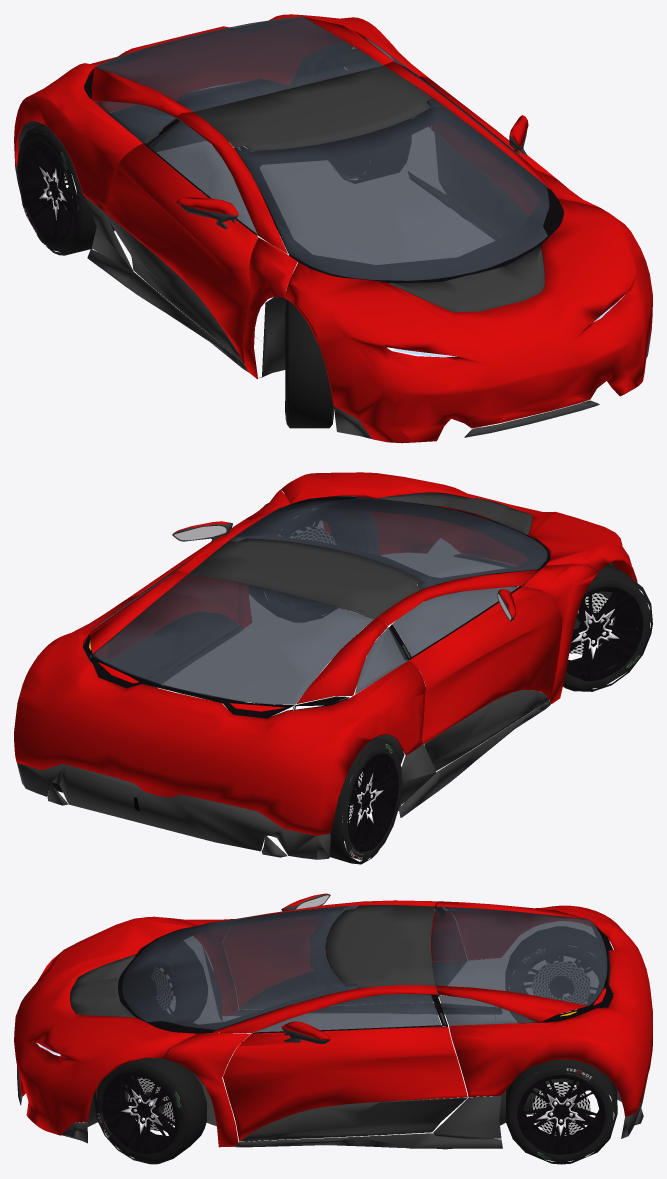
File: race_car_far.glb
The picture shows the model from 3 angles, top to bottom: view 1: azimuth 30°, elevation 25°; view 2: azimuth 150°, elevation 25°; view 3: azimuth 270°, elevation 25°; orthographic projection. The views are drawn at different scales.
Visible parts, largest first — view 1: BodyRearPanelsColor1, BodyWindshield, BodyRoofPanel, BodyWindshieldGasket, WheelFrontR, WheelRearRRim, WheelRearR, Underside, WheelRearL; view 2: BodyRearPanelsColor1, BodyWindshield, BodyRoofPanel, BodyWindshieldGasket, WheelFrontRRim, WheelRearRRim, WheelRearR, WheelFrontL, WheelFrontR, Underside, WheelFrontLRim, BodyDoorRMirror; view 3: BodyRearPanelsColor1, BodyWindshield, BodyRoofPanel, BodyWindshieldGasket, WheelFrontL, WheelRearLRim, WheelFrontLRim, WheelRearL, WheelRearR, WheelFrontR, Underside, WheelRearRBrakeDisc (+4 smaller).
Part boxes in pixels (bbox=[...]): BodyRearPanelsColor1: bbox=[14, 14, 652, 443]; BodyWindshield: bbox=[94, 16, 549, 280]; BodyRoofPanel: bbox=[15, 65, 651, 438]; BodyWindshieldGasket: bbox=[84, 18, 563, 282]; WheelFrontR: bbox=[285, 300, 333, 428]; WheelRearRRim: bbox=[21, 141, 73, 242]; WheelRearR: bbox=[17, 124, 114, 255]; Underside: bbox=[18, 42, 544, 378]; WheelRearL: bbox=[312, 49, 410, 183]; BodyRearPanelsColor1: bbox=[14, 472, 637, 835]; BodyWindshield: bbox=[92, 497, 547, 704]; BodyRoofPanel: bbox=[17, 492, 550, 859]; BodyWindshieldGasket: bbox=[83, 496, 550, 718]; WheelFrontRRim: bbox=[559, 586, 643, 681]; WheelRearRRim: bbox=[342, 753, 398, 851]; WheelRearR: bbox=[329, 737, 402, 864]; WheelFrontL: bbox=[249, 495, 367, 622]; WheelFrontR: bbox=[537, 563, 652, 691]; Underside: bbox=[47, 495, 628, 857]; WheelFrontLRim: bbox=[276, 518, 357, 610]; BodyDoorRMirror: bbox=[174, 525, 511, 620]; BodyRearPanelsColor1: bbox=[14, 893, 652, 1147]; BodyWindshield: bbox=[122, 905, 607, 1032]; BodyRoofPanel: bbox=[17, 894, 647, 1149]; BodyWindshieldGasket: bbox=[118, 903, 613, 1033]; WheelFrontL: bbox=[93, 1052, 206, 1164]; WheelRearLRim: bbox=[517, 1075, 605, 1154]; WheelFrontLRim: bbox=[102, 1072, 178, 1154]; WheelRearL: bbox=[506, 1059, 617, 1164]; WheelRearR: bbox=[506, 927, 613, 1023]; WheelFrontR: bbox=[136, 941, 207, 1021]; Underside: bbox=[87, 948, 643, 1126]; WheelRearRBrakeDisc: bbox=[532, 960, 589, 1014].
Bounding box in the file's own units: 2.54 × 1.15 × 4.35.
15 materials, 5 textured.
